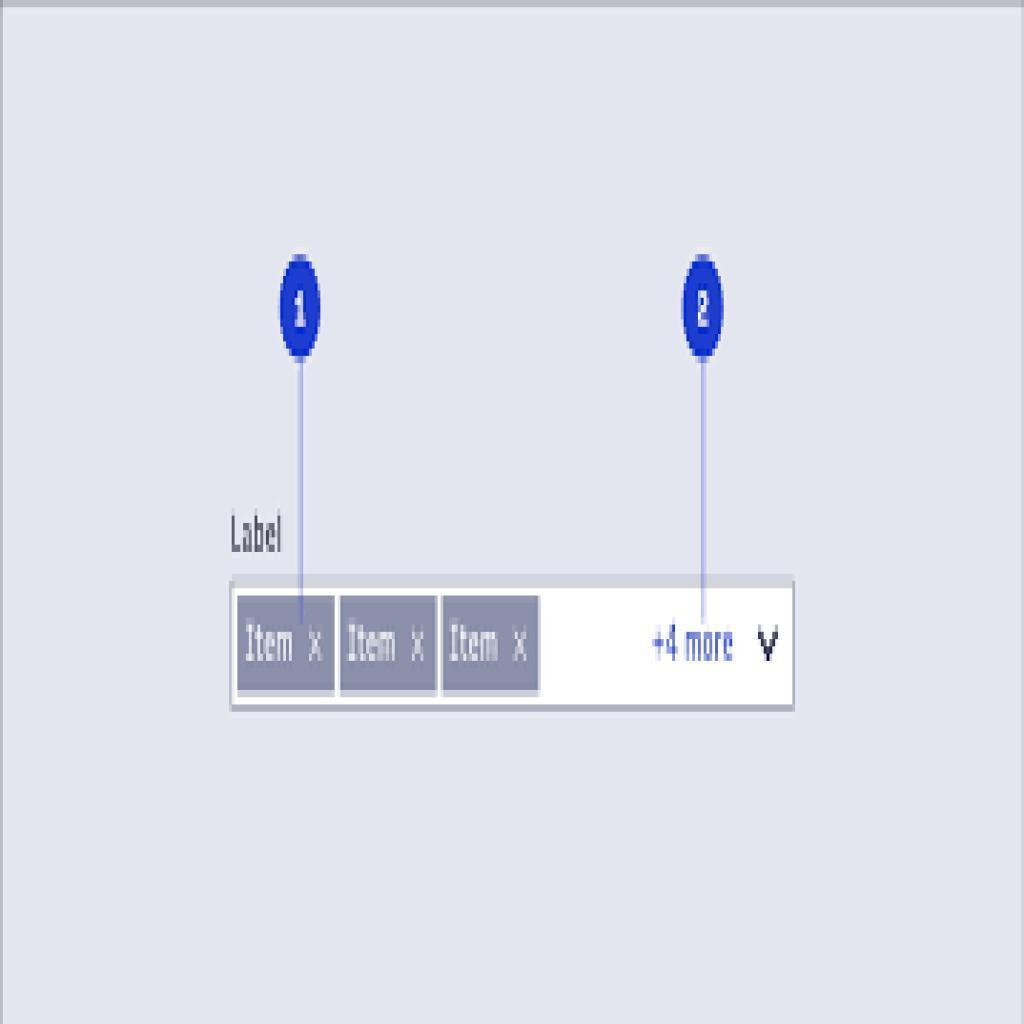dropdown: (233, 588, 795, 708)
